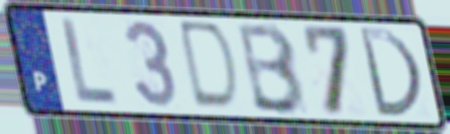3: (121, 18, 180, 112)
7: (301, 22, 357, 119)
B: (236, 21, 309, 118)
D: (355, 25, 426, 121), (178, 18, 241, 115)
L: (59, 15, 120, 109)
